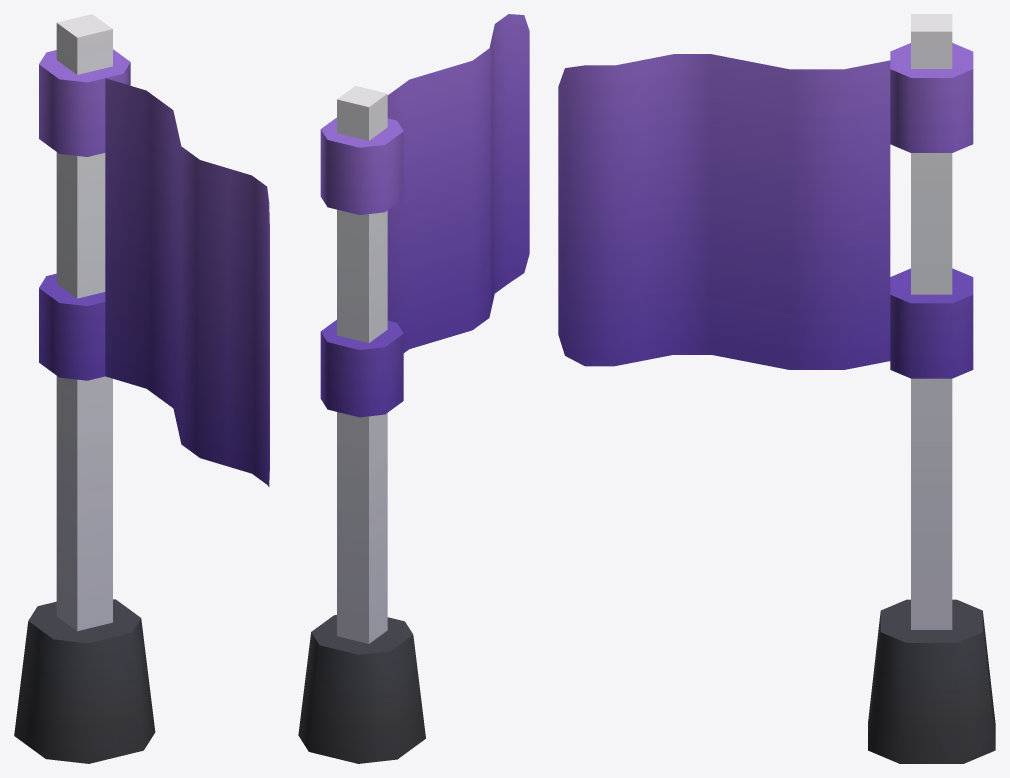
File: flag.glb
3 views of the same model, side by side, from view 1: azimuth 30°, elevation 25°; view 2: azimuth 150°, elevation 25°; view 3: azimuth 270°, elevation 25° (orthographic). The views are drawn at different scales.
Visible parts, largest first — view 1: flag; view 2: flag; view 3: flag.
Part boxes in pixels (box(x1,y1,x2,y2)): flag: box(14, 14, 269, 763); flag: box(298, 14, 529, 763); flag: box(558, 14, 995, 763).
Size of the model in its own units: 0.2 by 1.24 by 0.685.
Materials: 1 (1 with a texture image).
